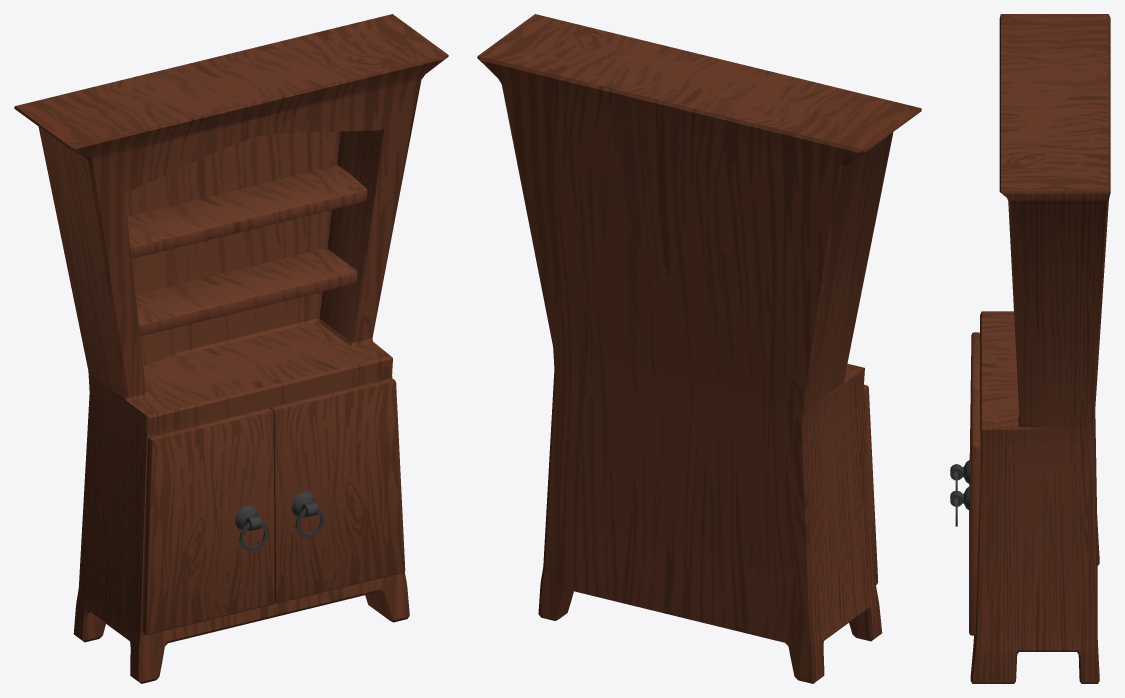
Rendered from Duisplay_Cabinet.fbx.
The picture shows the model from 3 angles, left to right: view 1: azimuth 30°, elevation 25°; view 2: azimuth 150°, elevation 25°; view 3: azimuth 270°, elevation 25°; orthographic projection. The views are drawn at different scales.
Visible parts, largest first — view 1: Display_Cabinet, Door_L, Door_R, Handel_R, Handel_L; view 2: Display_Cabinet, Door_L; view 3: Display_Cabinet, Door_R, Door_L, Handel_R, Handel_L.
Boxes of the visible parts, x1=… form: Display_Cabinet: x1=14, y1=14, x2=448, y2=683; Door_L: x1=141, y1=408, x2=274, y2=634; Door_R: x1=271, y1=378, x2=405, y2=603; Handel_R: x1=291, y1=492, x2=324, y2=538; Handel_L: x1=235, y1=505, x2=268, y2=551; Display_Cabinet: x1=477, y1=14, x2=921, y2=683; Door_L: x1=863, y1=384, x2=878, y2=584; Display_Cabinet: x1=970, y1=14, x2=1110, y2=683; Door_R: x1=969, y1=390, x2=980, y2=635; Door_L: x1=969, y1=332, x2=979, y2=562; Handel_R: x1=950, y1=486, x2=970, y2=526; Handel_L: x1=950, y1=459, x2=970, y2=490.
Bounding box in the file's own units: 88.01 × 120 × 33.56.
2 materials, 1 textured.
